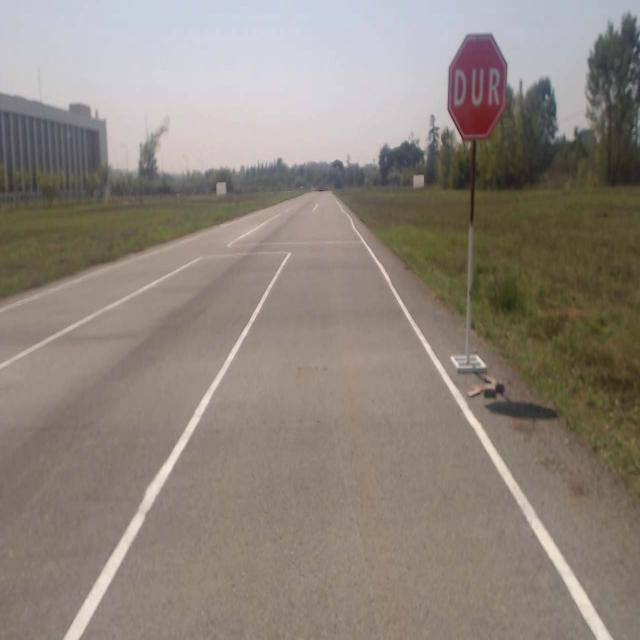dur: (448, 33, 507, 139)
